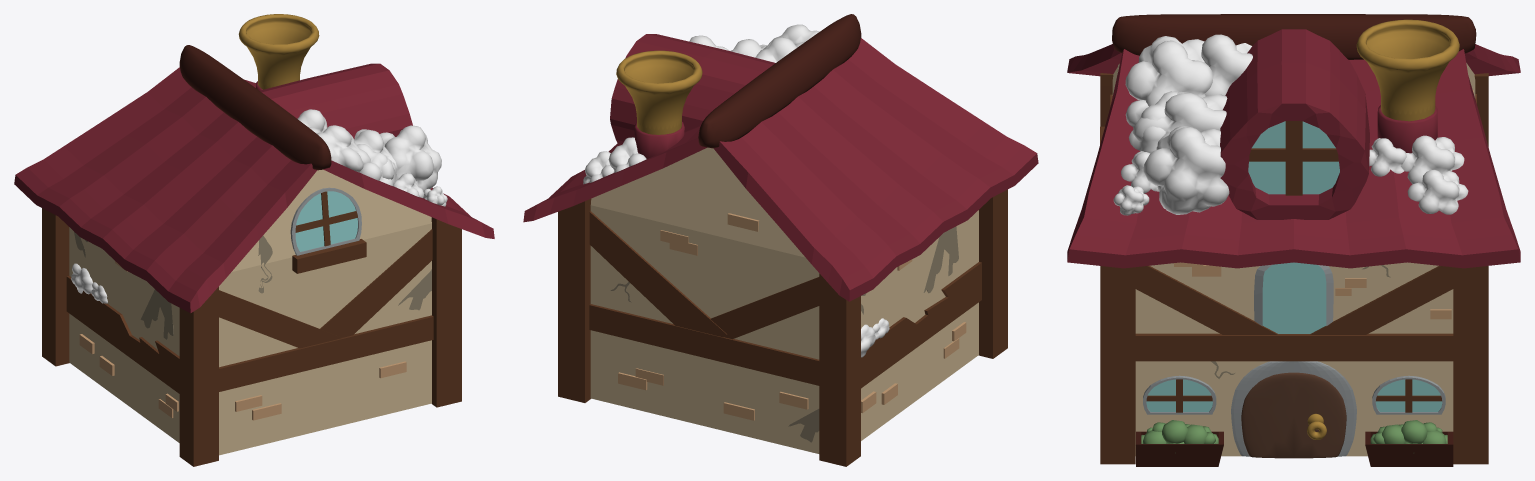
File: CasaPerPrincipal (3).fbx
3 renders of one model, left to right at view 1: azimuth 30°, elevation 25°; view 2: azimuth 150°, elevation 25°; view 3: azimuth 270°, elevation 25°, orthographic. The views are drawn at different scales.
Visible parts, largest first — view 1: Tejado.001, Base_Oficial, Base, VentanaTejado, Tronco arriba, Biga3, Tablonlateral, Biga1, Chimetuba, Biga4, Tablon atras, Tablonlateralcruzado.001 (+11 smaller); view 2: Base_Oficial, Tejado.001, Tronco arriba, Base, Biga4, Biga2, Tablonlateral.001, VentanaTejado, Chimetuba, Biga3, Tablon atras, Tablonlateralcruzado.003 (+7 smaller); view 3: Tejado, VentanaTejado, Base, Base_Oficial, Tablon, Tronco arriba, Puerta, Chimetuba, Biga2, Biga1, Sphere.004, VentanaMedio (+28 smaller).
Boxes of the visible parts, bbox=[...] form: Tejado.001: bbox=[14, 67, 317, 313]; Base_Oficial: bbox=[69, 169, 431, 455]; Base: bbox=[69, 170, 427, 447]; VentanaTejado: bbox=[260, 63, 412, 138]; Tronco arriba: bbox=[179, 45, 331, 170]; Biga3: bbox=[179, 287, 218, 466]; Tablonlateral: bbox=[219, 315, 433, 391]; Biga1: bbox=[431, 217, 461, 407]; Chimetuba: bbox=[238, 14, 319, 89]; Biga4: bbox=[42, 208, 69, 366]; Tablon atras: bbox=[66, 275, 179, 393]; Tablonlateralcruzado.001: bbox=[320, 229, 432, 337]; Base_Oficial: bbox=[590, 147, 978, 453]; Tejado.001: bbox=[713, 38, 1038, 301]; Tronco arriba: bbox=[698, 14, 861, 148]; Base: bbox=[666, 147, 978, 451]; Biga4: bbox=[819, 273, 860, 466]; Biga2: bbox=[558, 199, 591, 402]; Tablonlateral.001: bbox=[589, 304, 819, 385]; VentanaTejado: bbox=[610, 34, 775, 144]; Chimetuba: bbox=[616, 50, 702, 134]; Biga3: bbox=[978, 189, 1007, 358]; Tablon atras: bbox=[861, 262, 981, 388]; Tablonlateralcruzado.003: bbox=[589, 211, 726, 337]; Tejado: bbox=[1067, 49, 1520, 268]; VentanaTejado: bbox=[1220, 29, 1369, 219]; Base: bbox=[1135, 262, 1453, 456]; Base_Oficial: bbox=[1112, 63, 1475, 456]; Tablon: bbox=[1135, 333, 1453, 361]; Tronco arriba: bbox=[1112, 14, 1476, 59]; Puerta: bbox=[1241, 372, 1346, 458]; Chimetuba: bbox=[1356, 19, 1459, 121]; Biga2: bbox=[1453, 266, 1488, 464]; Biga1: bbox=[1100, 266, 1135, 464]; Sphere.004: bbox=[1143, 125, 1229, 214]; VentanaMedio: bbox=[1262, 262, 1326, 333].
Bounding box in the file's own units: 449 × 423 × 451.
